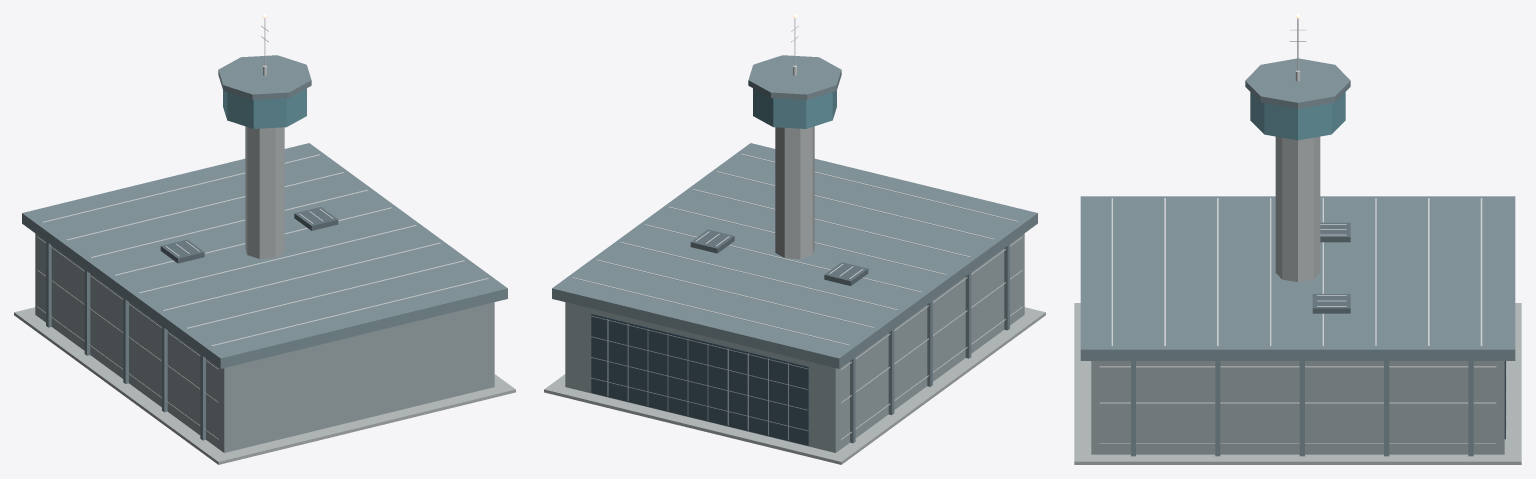
The model's file is airfield-kit-hd.glb.
3 views of the same model, side by side, from view 1: azimuth 30°, elevation 25°; view 2: azimuth 150°, elevation 25°; view 3: azimuth 270°, elevation 25° (orthographic). The views are drawn at different scales.
Parts seen in each view (by area): view 1: Angled roof crown, Structural prefabricated volume, Hangar foundation, Tower pedestal shaft, Tower wide weather roof, 360-degree glazed controller level, Rooftop vents, Rooftop vents.001, Exterior hangar buttress.001; view 2: Angled roof crown, Structural prefabricated volume, Recessed hangar door, Hangar foundation, Tower pedestal shaft, Tower wide weather roof, 360-degree glazed controller level, Rooftop vents.001, Rooftop vents, Exterior hangar buttress.003, Exterior hangar buttress.001; view 3: Angled roof crown, Structural prefabricated volume, Hangar foundation, Tower pedestal shaft, Tower wide weather roof, 360-degree glazed controller level, Rooftop vents.001, Airfield hangar fascia stripe.005, Airfield hangar fascia stripe.004, Rooftop vents, Exterior hangar buttress.005, Exterior hangar buttress.006 (+3 smaller).
Boxes of the visible parts, x1,y1,x2,y2 form: Angled roof crown: (22,143,507,368); Structural prefabricated volume: (35,233,494,452); Hangar foundation: (14,307,515,464); Tower pedestal shaft: (245,126,284,258); Tower wide weather roof: (218,55,311,99); 360-degree glazed controller level: (223,88,306,128); Rooftop vents: (160,239,204,263); Rooftop vents.001: (294,207,338,230); Exterior hangar buttress.001: (84,270,90,355); Angled roof crown: (552,143,1037,368); Structural prefabricated volume: (565,233,1024,452); Recessed hangar door: (591,313,808,445); Hangar foundation: (544,307,1045,464); Tower pedestal shaft: (775,126,814,258); Tower wide weather roof: (748,55,841,99); 360-degree glazed controller level: (753,88,836,128); Rooftop vents.001: (690,229,734,253); Rooftop vents: (824,262,868,285); Exterior hangar buttress.003: (965,272,971,358); Exterior hangar buttress.001: (888,329,894,414); Angled roof crown: (1080,196,1515,360); Structural prefabricated volume: (1091,361,1504,454); Hangar foundation: (1074,303,1521,464); Tower pedestal shaft: (1275,136,1320,282); Tower wide weather roof: (1245,58,1350,108); 360-degree glazed controller level: (1250,92,1345,140); Rooftop vents.001: (1312,294,1350,313); Airfield hangar fascia stripe.005: (1099,366,1496,367); Airfield hangar fascia stripe.004: (1099,402,1496,403); Rooftop vents: (1320,222,1350,242); Exterior hangar buttress.005: (1468,361,1473,456); Exterior hangar buttress.006: (1384,361,1389,456).
Bounding box in the file's own units: 89 × 97.46 × 106.
